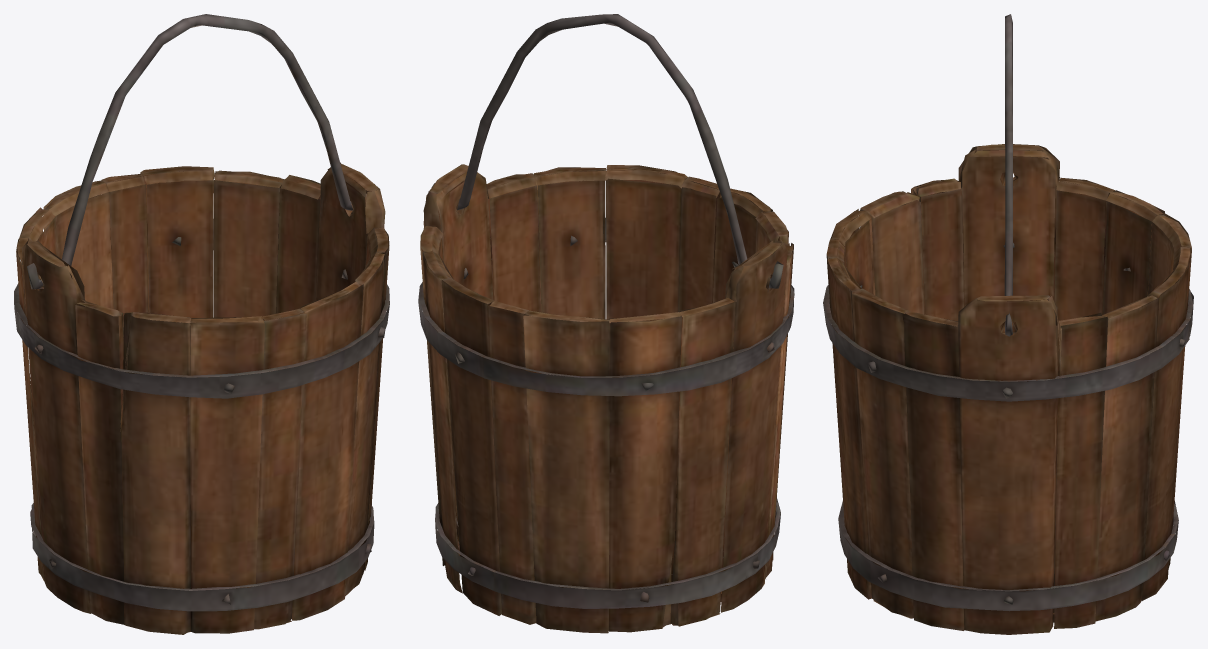
The model's file is wooden_bucket_01.glb.
The picture shows the model from 3 angles, left to right: view 1: azimuth 30°, elevation 25°; view 2: azimuth 150°, elevation 25°; view 3: azimuth 270°, elevation 25°; orthographic projection.
Parts seen in each view (by area): view 1: wooden_bucket_01, wooden_bucket_01_handle; view 2: wooden_bucket_01, wooden_bucket_01_handle; view 3: wooden_bucket_01, wooden_bucket_01_handle.
Part boxes in pixels (x1,y1,x2,y2): wooden_bucket_01: (14, 162, 389, 634); wooden_bucket_01_handle: (27, 14, 352, 289); wooden_bucket_01: (418, 164, 794, 633); wooden_bucket_01_handle: (431, 14, 783, 288); wooden_bucket_01: (823, 144, 1193, 634); wooden_bucket_01_handle: (1004, 14, 1012, 336).
Bounding box in the file's own units: 0.3668 × 0.5521 × 0.3417.
1 material, 1 textured.
